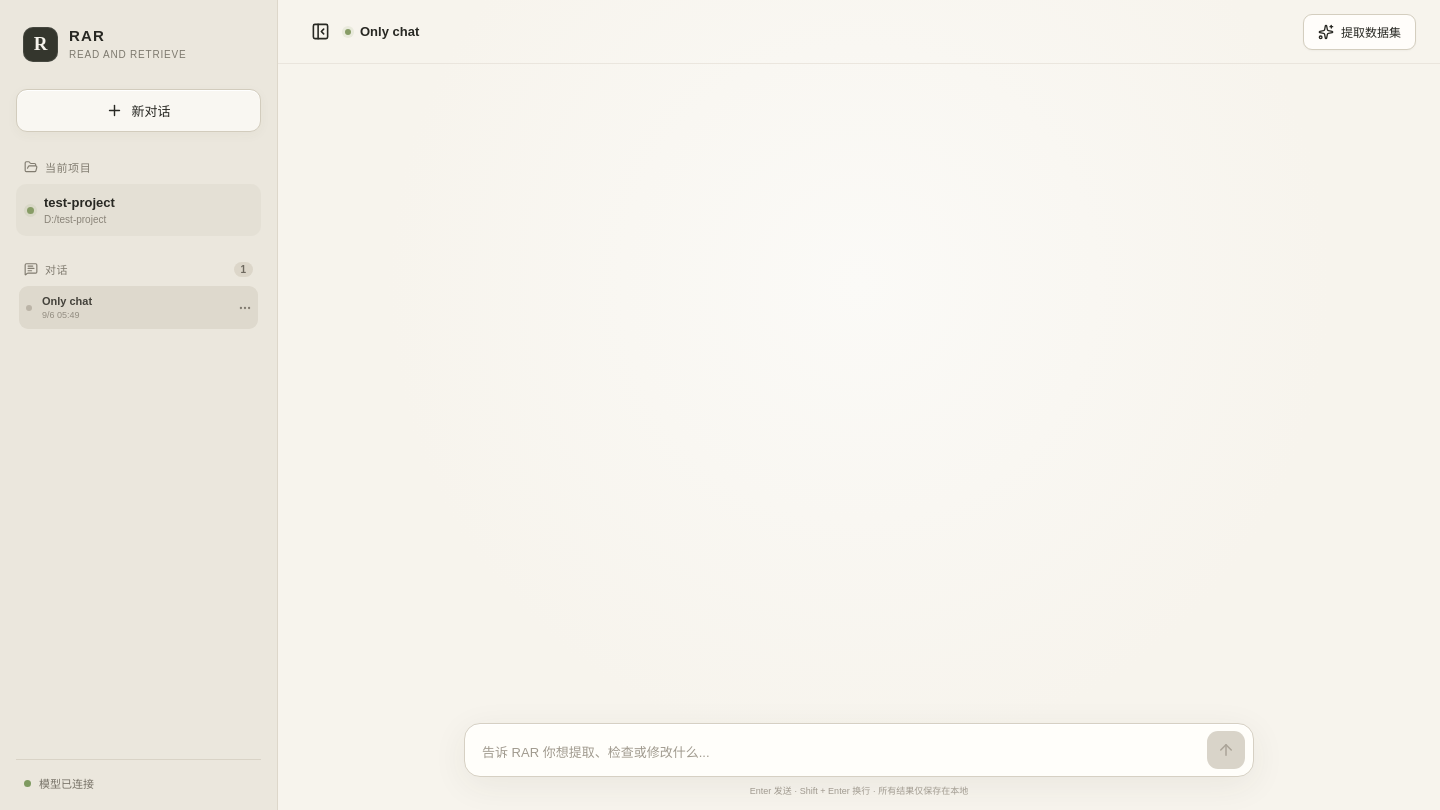
App chat navigation › renders a chat action menu outside the scrolling chat list
This screenshot has width=1440, height=810.
Click the button with class "chat-menu-button": (244, 308) top-left (231, 294), bottom-right (258, 321)
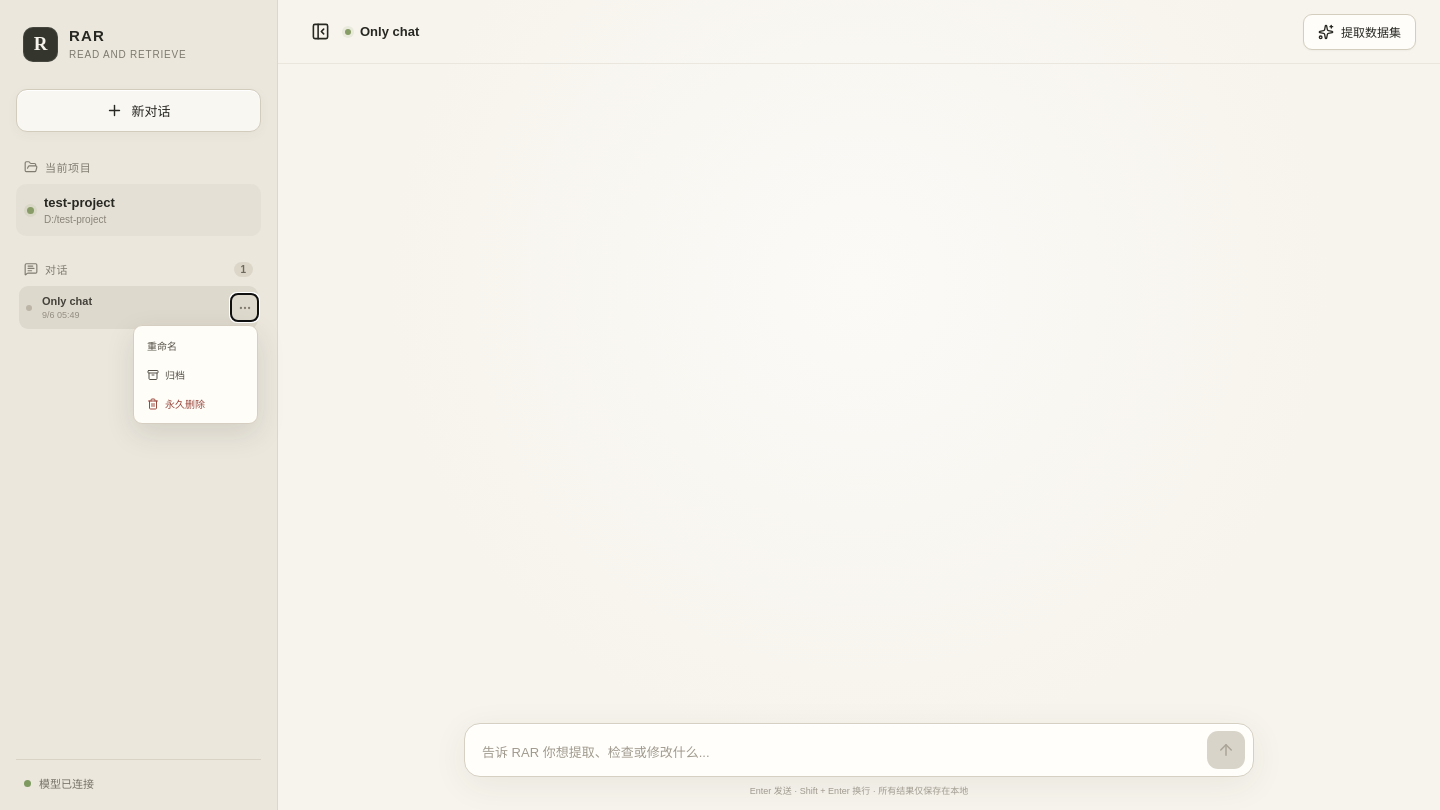
Now the menu with class "chat-menu" is shown, box top-left (133, 325), bottom-right (258, 424)
